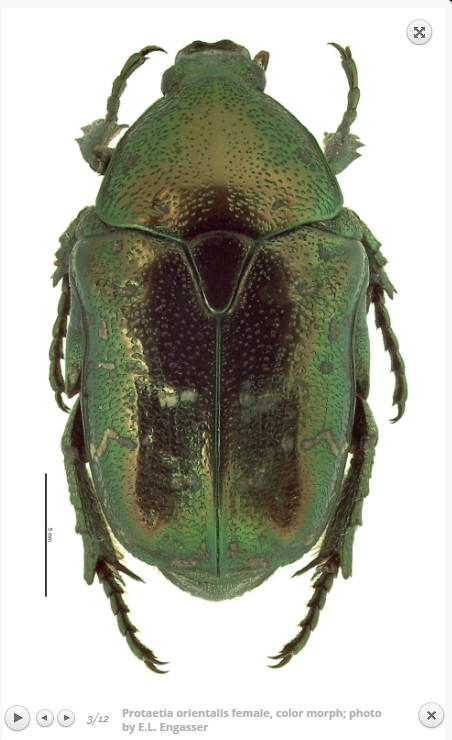Protaetia _orientalis: (48, 9, 413, 682)
